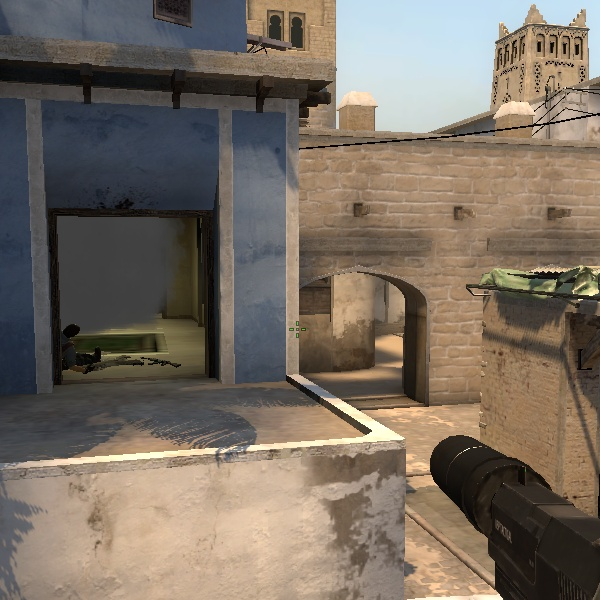t_body: (58, 318, 88, 382)
